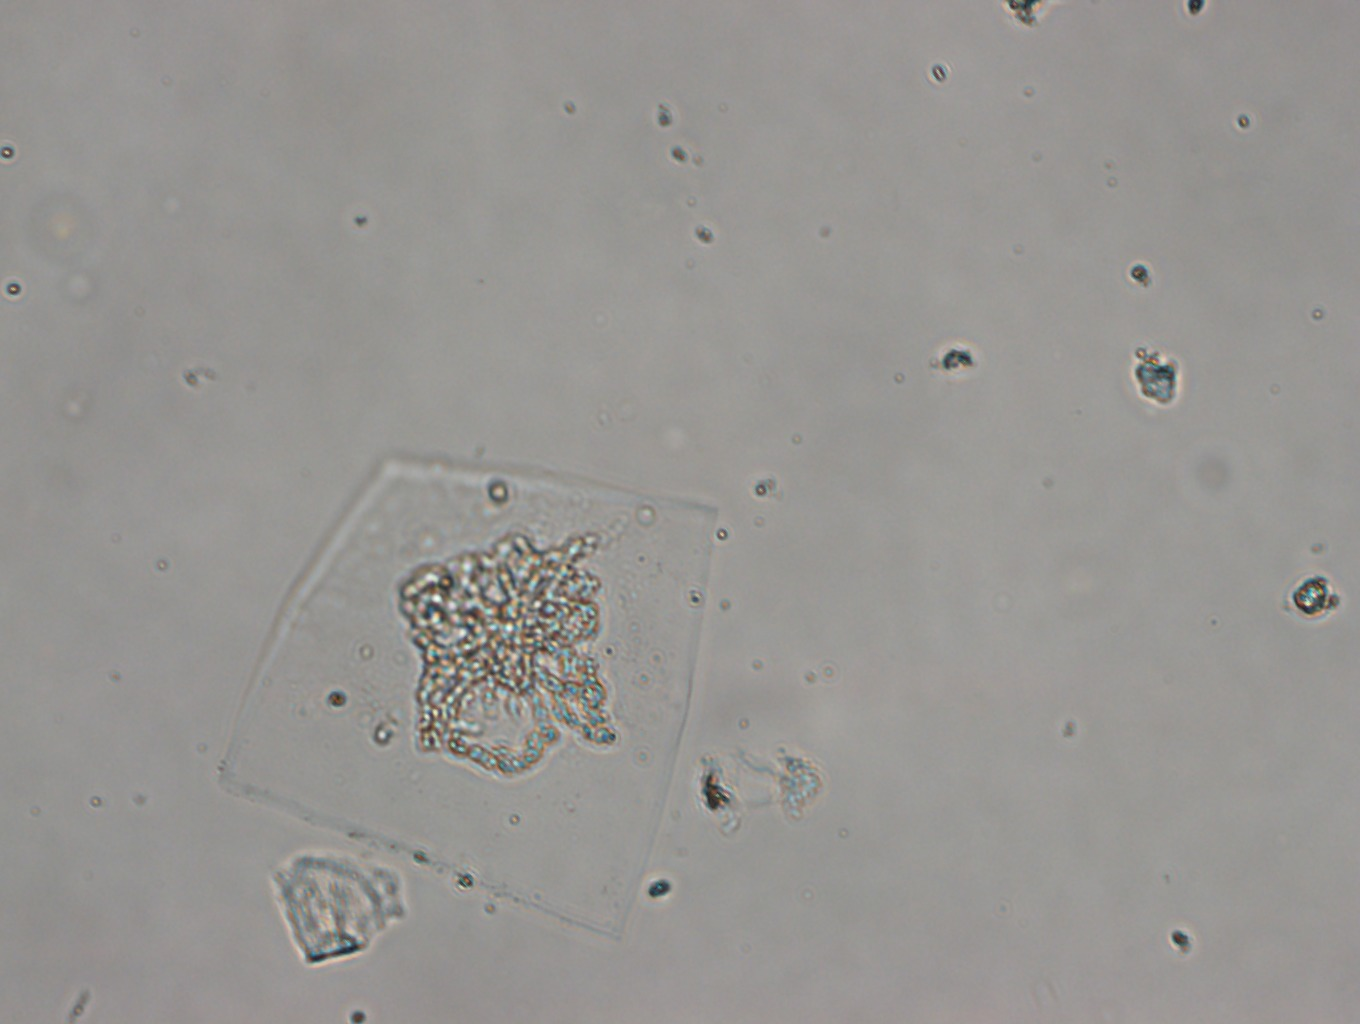helicotheca: (216, 450, 719, 940)
